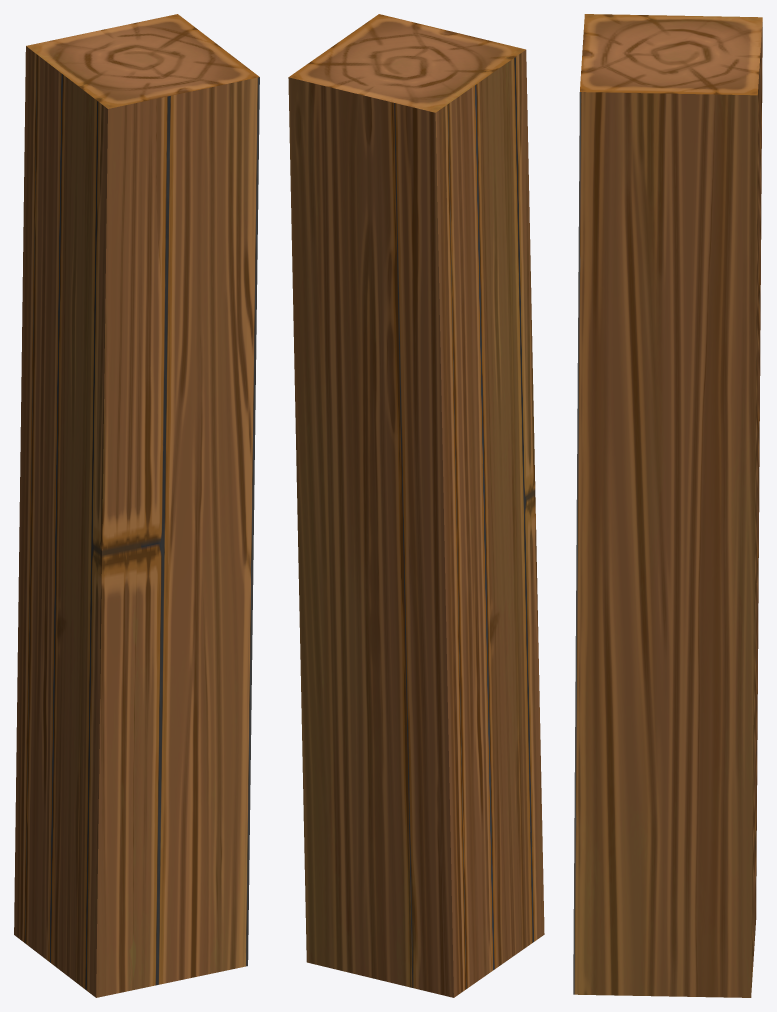
3 views of the same model, side by side, from view 1: azimuth 30°, elevation 25°; view 2: azimuth 150°, elevation 25°; view 3: azimuth 270°, elevation 25° (orthographic). The views are drawn at different scales.
Visible parts, largest first — view 1: Cube.500; view 2: Cube.500; view 3: Cube.500.
Boxes of the visible parts, x1=… form: Cube.500: x1=14, y1=14, x2=259, y2=997; Cube.500: x1=288, y1=14, x2=544, y2=997; Cube.500: x1=573, y1=14, x2=762, y2=997.
Size of the model in its own units: 34.63 by 174 by 32.69.
1 material, 1 textured.
